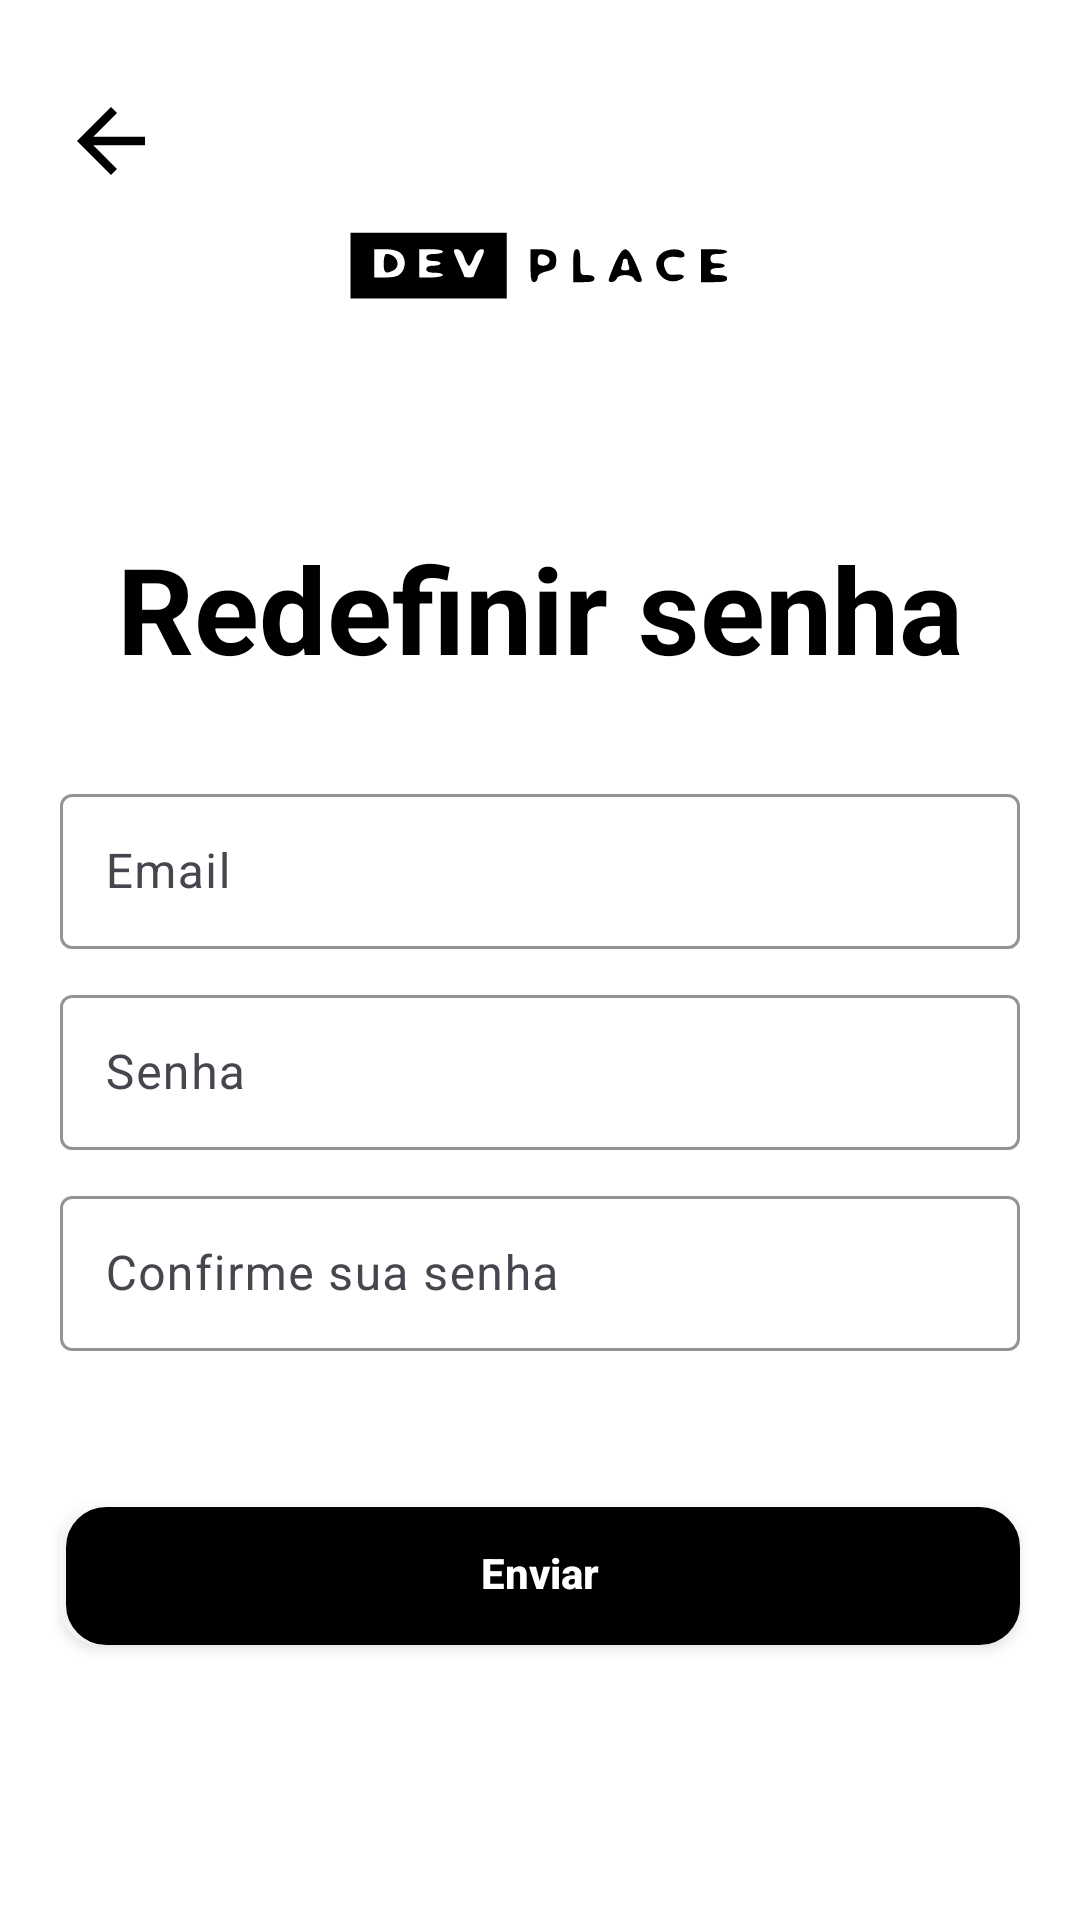

Icon click points for this 1080 × 1920 phone screenshot, format (x,y):
voltar nav: (111,141)
